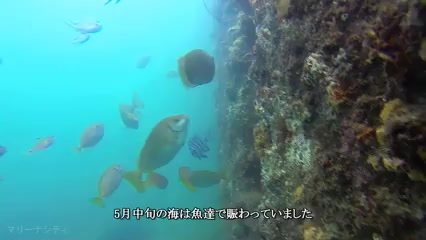smallfish: (115, 109, 191, 189), (88, 162, 125, 209), (69, 117, 108, 160)
